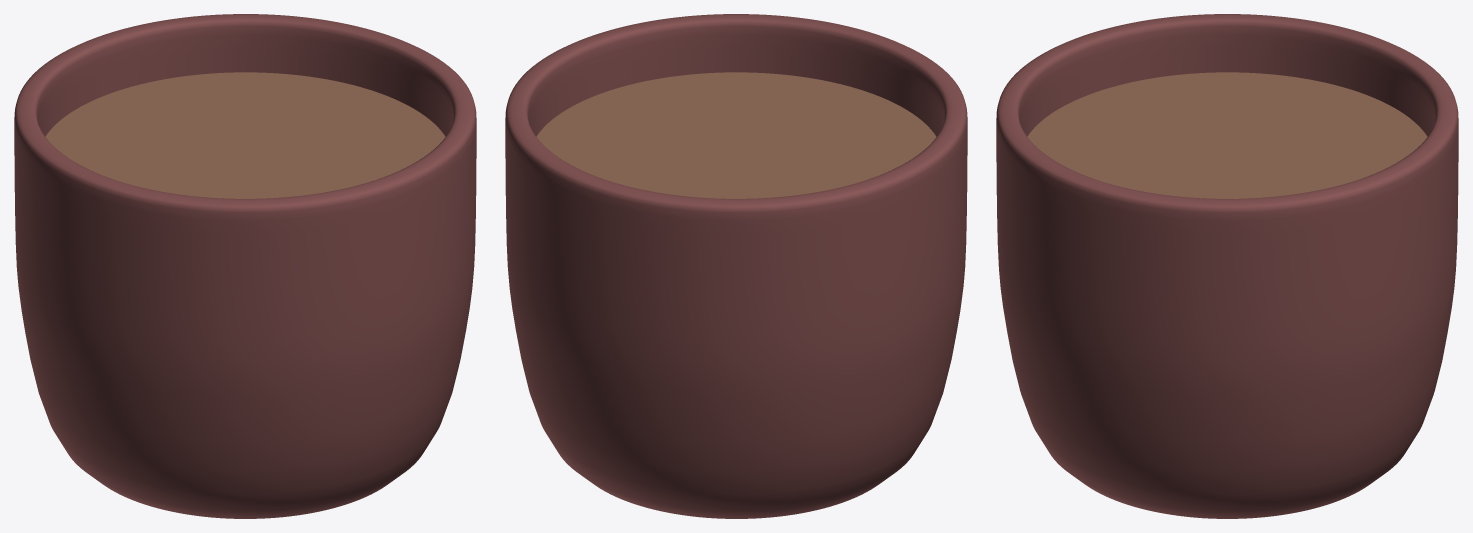
The model's file is basic_red.glb.
The picture shows the model from 3 angles, left to right: view 1: azimuth 30°, elevation 25°; view 2: azimuth 150°, elevation 25°; view 3: azimuth 270°, elevation 25°; orthographic projection.
Visible parts, largest first — view 1: Circle.002, Circle.001; view 2: Circle.002, Circle.001; view 3: Circle.002, Circle.001.
Boxes of the visible parts, bbox=[...] form: Circle.002: bbox=[14, 14, 476, 518]; Circle.001: bbox=[45, 72, 445, 198]; Circle.002: bbox=[505, 14, 967, 518]; Circle.001: bbox=[536, 72, 936, 198]; Circle.002: bbox=[996, 14, 1458, 518]; Circle.001: bbox=[1027, 72, 1427, 198].
Bounding box in the file's own units: 11.86 × 10.04 × 11.86.
